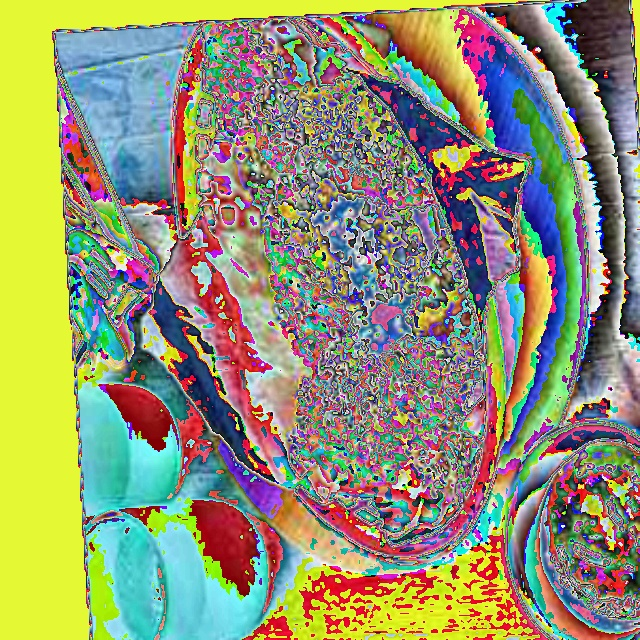background: (102, 196, 639, 633), (199, 20, 484, 507), (77, 258, 268, 639)
